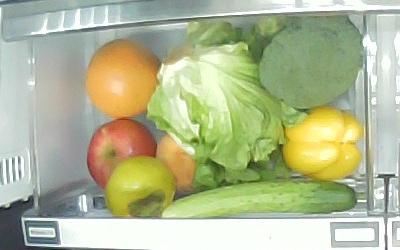apple: (87, 118, 158, 188)
broccoli: (258, 13, 363, 108)
cucumber: (162, 181, 357, 218)
grapefruit: (85, 39, 159, 119)
lettuce: (148, 23, 286, 181)
paprika: (281, 106, 364, 180)
peach: (155, 134, 197, 194)
persimmon: (104, 155, 175, 219)
